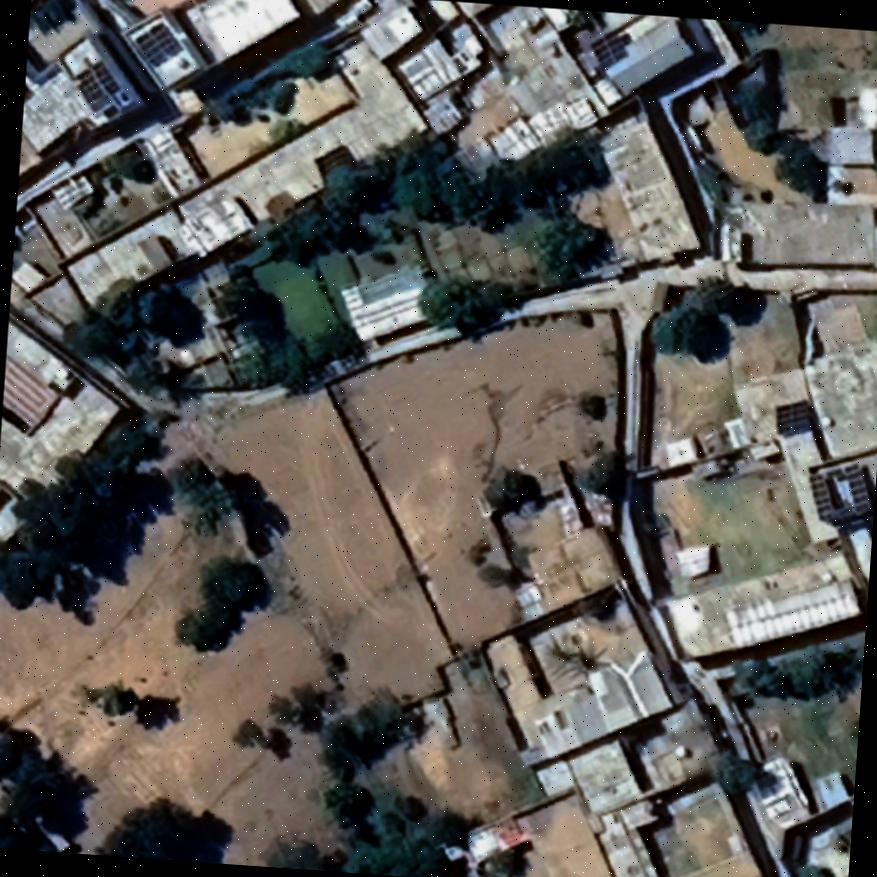Solarpanel: (802, 463, 869, 527), (72, 58, 123, 113), (128, 17, 180, 68), (770, 394, 817, 440), (586, 28, 630, 72)
